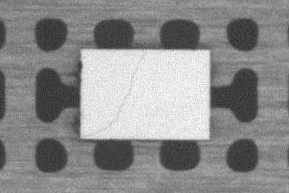DIE_CRACK: (84, 53, 146, 138)
